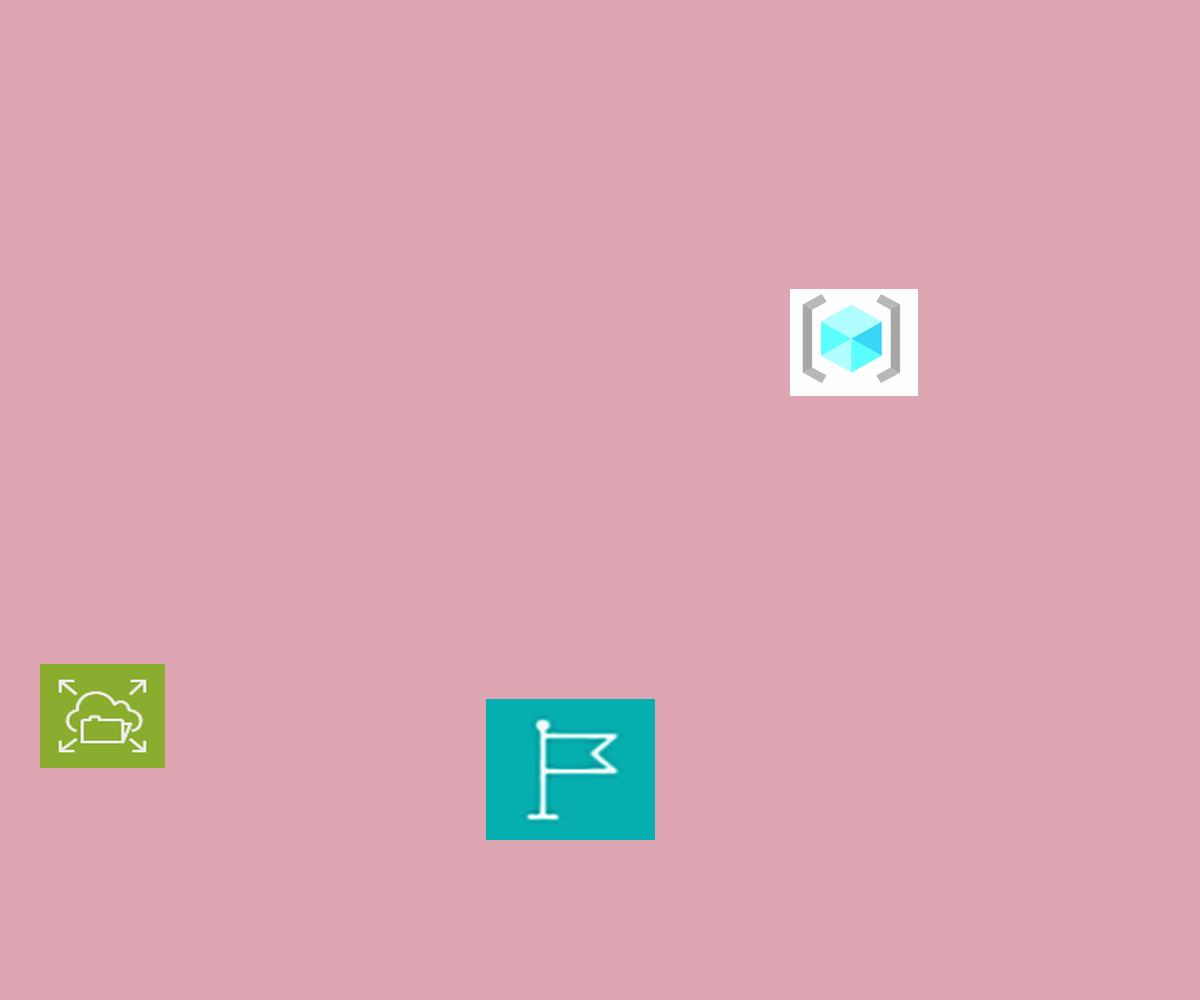AWS-EFS: (40, 664, 165, 768)
AWS-Region: (486, 699, 655, 840)
Azure_resource_group: (790, 289, 918, 396)
